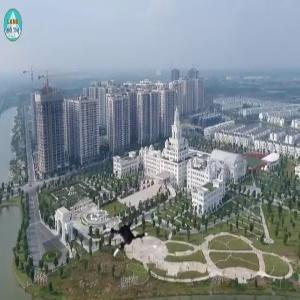drone: (102, 211, 154, 263)
